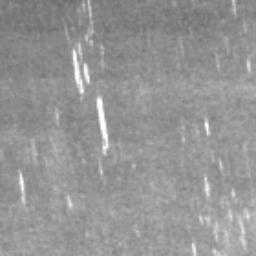White rust: (60, 0, 109, 177), (191, 157, 250, 256), (231, 0, 252, 73), (17, 138, 38, 205), (179, 115, 211, 145), (54, 104, 64, 129), (213, 49, 220, 70), (66, 194, 72, 208)
